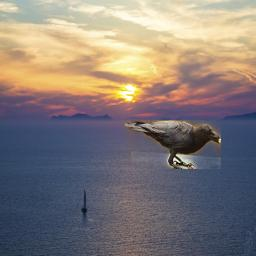Crow: (124, 120, 221, 169)
